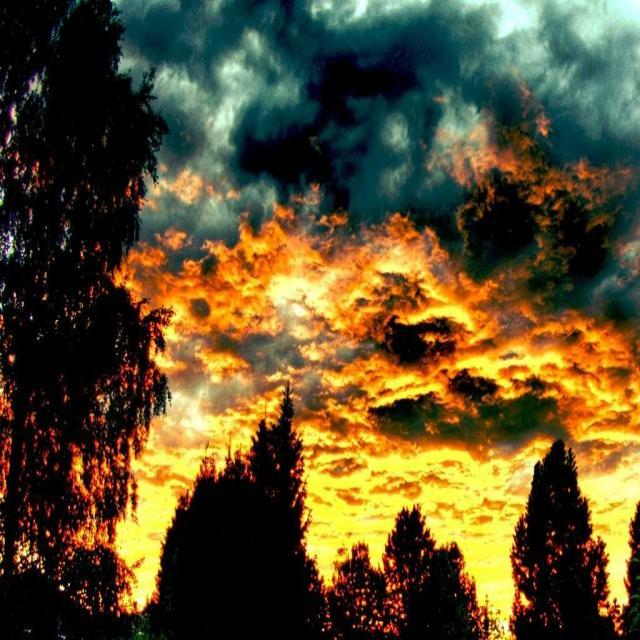Fire: (248, 239, 487, 407), (490, 258, 621, 459), (385, 432, 510, 620), (130, 234, 241, 402), (310, 430, 380, 570), (583, 472, 639, 604), (122, 434, 164, 606), (173, 398, 241, 468)
